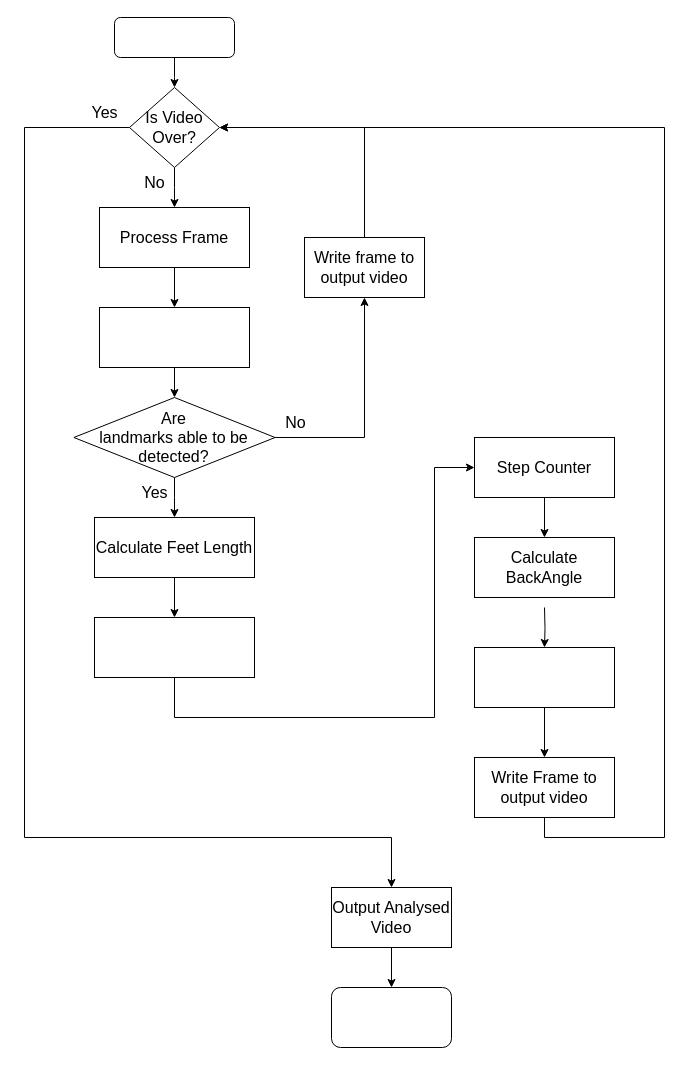
The diagram is 690 pixels wide and 1065 high, and some of its shapes have lost their labels. Each missing label, with the centre of its shape:
"Add annotations" goes at [544,677].
"Back Angle video uploaded" goes at [174,37].
"Check Camera Alignment" goes at [174,647].
"Get MediaPipe Pose Landmarks" goes at [174,337].
"Return Angles at Each Step" goes at [391,1017].
